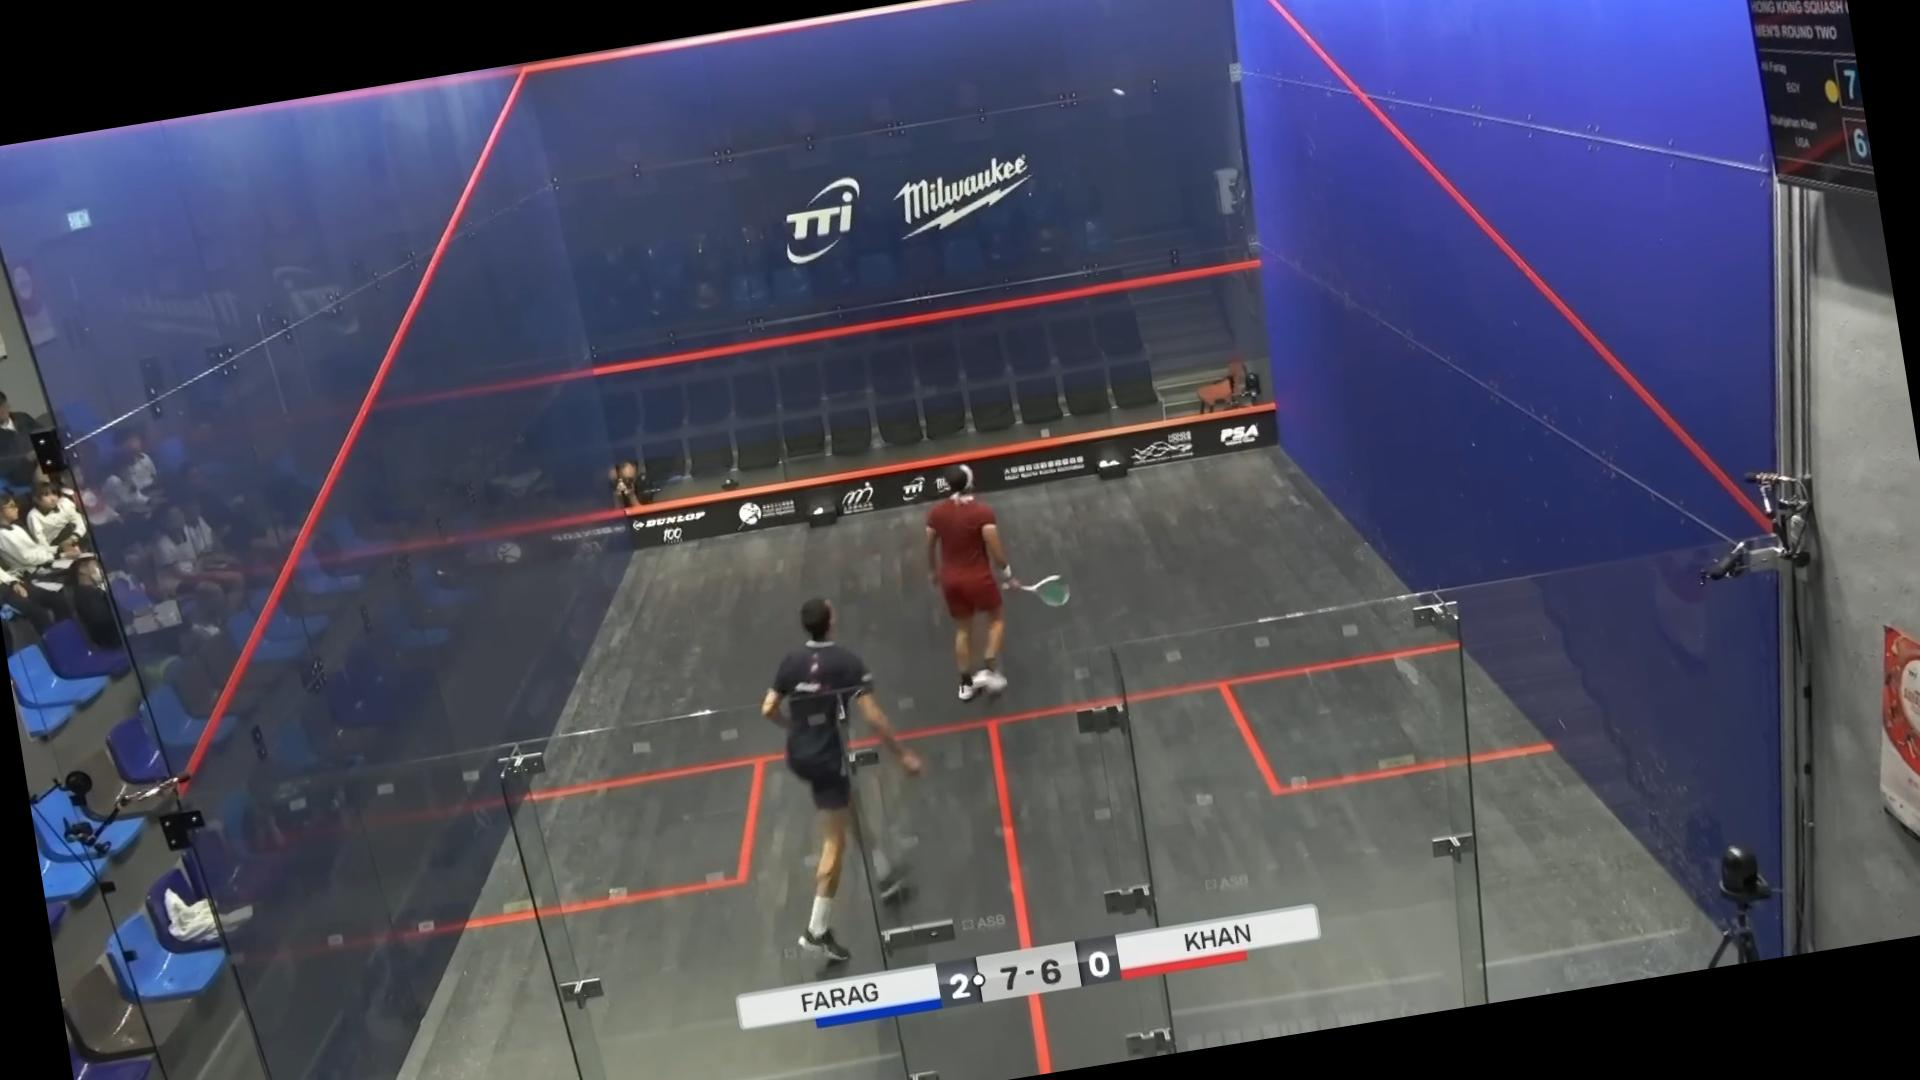Racket: (1021, 570, 1077, 616)
